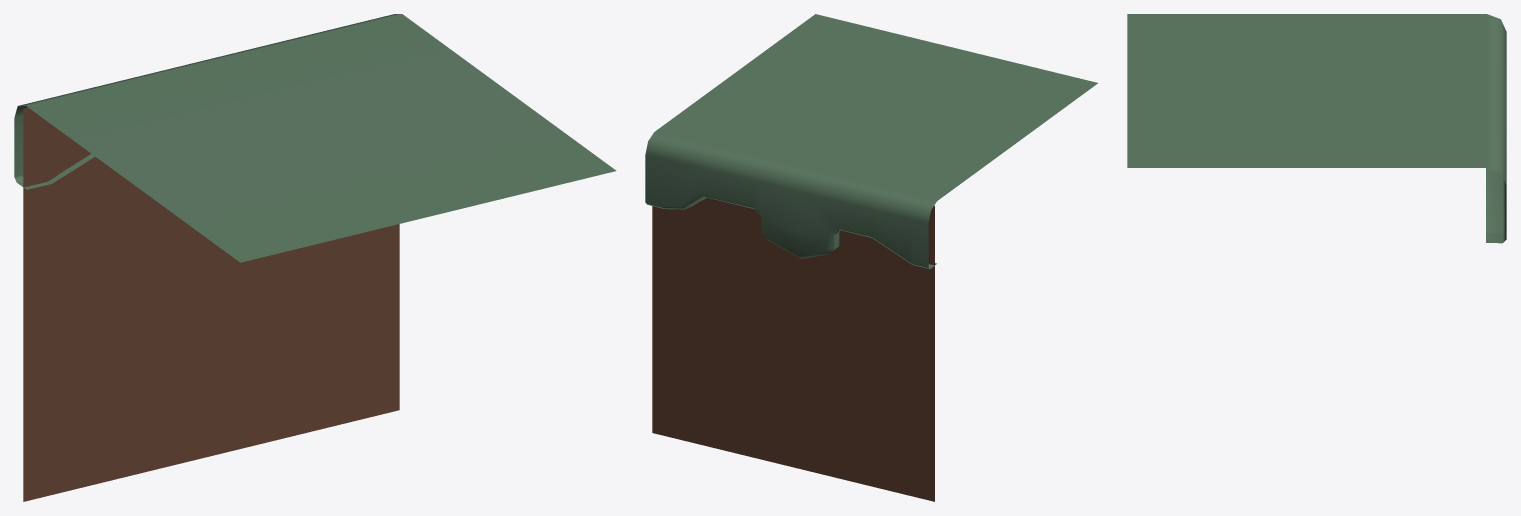
The model's file is PlataformasCostado_lateral.fbx.
The picture shows the model from 3 angles, left to right: view 1: azimuth 30°, elevation 25°; view 2: azimuth 150°, elevation 25°; view 3: azimuth 270°, elevation 25°; orthographic projection. The views are drawn at different scales.
Visible parts, largest first — view 1: pCube10, polySurface5; view 2: pCube10, polySurface5; view 3: polySurface5.
Boxes of the visible parts, left/top/right/bottom form: pCube10: left=23, top=107, right=399, bottom=501; polySurface5: left=14, top=14, right=616, bottom=262; pCube10: left=652, top=198, right=934, bottom=501; polySurface5: left=645, top=14, right=1097, bottom=268; polySurface5: left=1127, top=14, right=1506, bottom=243.
Bounding box in the file's own units: 100 × 101 × 104.
